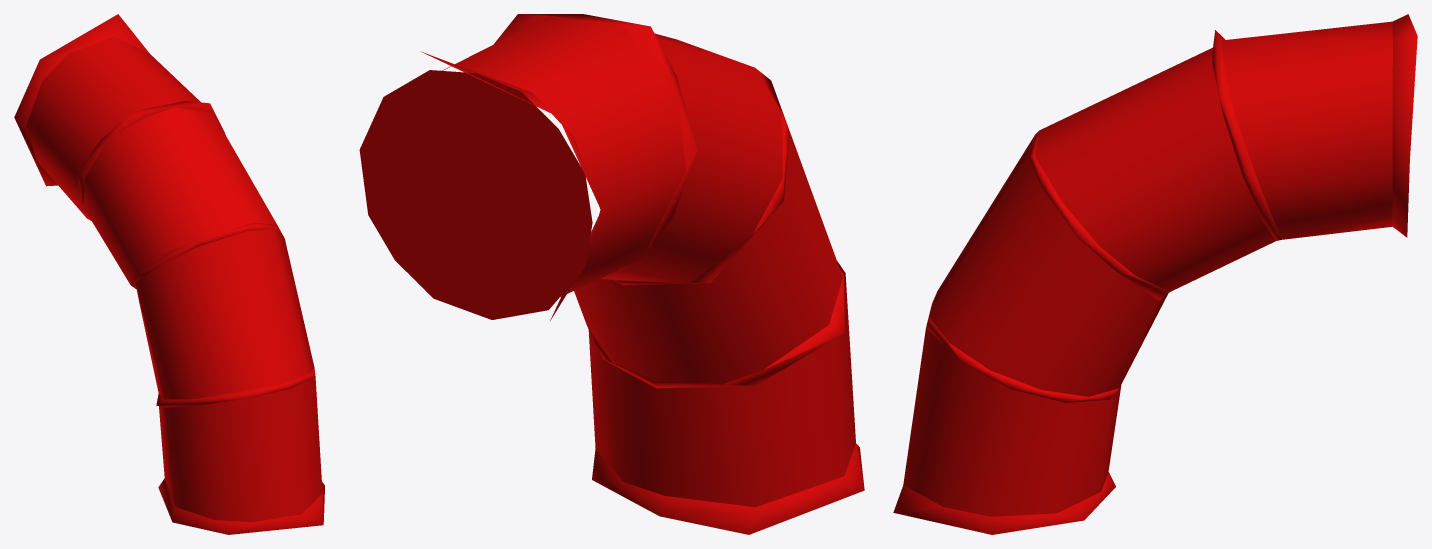
3 views of the same model, side by side, from view 1: azimuth 30°, elevation 25°; view 2: azimuth 150°, elevation 25°; view 3: azimuth 270°, elevation 25° (orthographic). The views are drawn at different scales.
Parts seen in each view (by area): view 1: Mesh; view 2: Mesh; view 3: Mesh.
Part boxes in pixels (box(x1,y1,x2,y2)): Mesh: box(14, 14, 324, 534); Mesh: box(359, 14, 864, 534); Mesh: box(893, 14, 1417, 534).
Bounding box in the file's own units: 0.4585 × 1.03 × 1.04.
